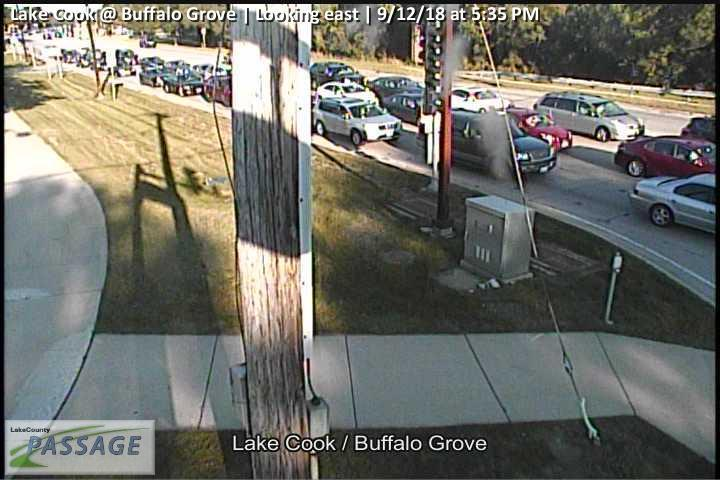SUV: (425, 110, 556, 176), (534, 92, 643, 143), (310, 97, 402, 146), (499, 108, 571, 151), (310, 62, 364, 90)
Sedan: (627, 173, 720, 234), (614, 136, 718, 176), (385, 88, 436, 126), (447, 86, 511, 116), (368, 77, 428, 103), (203, 75, 234, 106)
